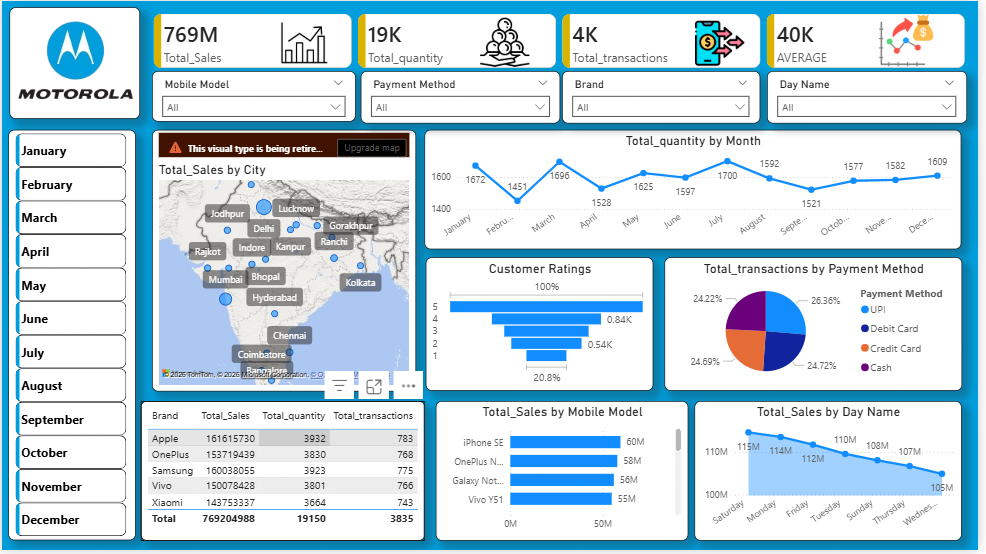

Layout of this report page (visuals, bound fields, positions):
{"tool":"powerbi","page":{"name":"Page 1","canvas":[1280,720],"ordinal":0},"visuals":[{"type":"shape","box":[10.4,7.8,171.4,146.8],"z":0},{"type":"image","box":[16.9,7.8,157.1,140.3],"z":1000},{"type":"shape","box":[7.5,168.8,167.5,538.8],"z":2000},{"type":"advancedSlicerVisual","fields":{"Values":["Sales Data.Date.Variation.Date Hierarchy.Month"]},"box":[13.8,168.8,155,538.8],"z":3000},{"type":"cardVisual","fields":{"Data":["Sales Data.Total_Sales","Sales Data.Total_quantity","Sales Data.Total_transactions","Sales Data.AVERAGE"]},"box":[181.8,0,1098.7,105.2],"z":4000},{"type":"image","box":[289.6,15.6,213,76.6],"z":5000},{"type":"image","box":[544.2,19.5,231.2,68.8],"z":6000},{"type":"image","box":[868.8,23.4,144.2,64.9],"z":7000},{"type":"image","box":[1092.2,16.9,188.3,71.4],"z":8000},{"type":"map","fields":{"Category":["Sales Data.City"],"Size":["Sales Data.Total_Sales"]},"box":[197.4,168.8,346.8,342.9],"z":9000},{"type":"lineChart","fields":{"Y":["Sales Data.Total_quantity"],"Category":["Sales Data.Date.Variation.Date Hierarchy.Month"]},"box":[554.5,168.8,703.9,157.1],"z":10000},{"type":"funnel","title":"Customer Ratings","fields":{"Category":["Sales Data.Customer Ratings"],"Y":["CountNonNull(Sales Data.Customer Ratings)"]},"box":[555,336.2,298.8,175],"z":11000},{"type":"pieChart","fields":{"Category":["Sales Data.Payment Method"],"Y":["Sales Data.Total_transactions"]},"box":[868.8,336.2,390,175],"z":12000},{"type":"clusteredBarChart","fields":{"Category":["Sales Data.Mobile Model"],"Y":["Sales Data.Total_Sales"]},"box":[568.8,524.7,331.2,183.1],"z":13000},{"type":"lineChart","fields":{"Y":["Sales Data.Total_Sales"],"Category":["Sales Data.Day Name"]},"box":[907.8,524.7,350.6,183.1],"z":14000},{"type":"tableEx","fields":{"Values":["Sales Data.Brand","Sales Data.Total_Sales","Sales Data.Total_quantity","Sales Data.Total_transactions"]},"box":[181.8,524.7,372.7,183.1],"z":15000},{"type":"slicer","fields":{"Values":["Sales Data.Mobile Model"]},"box":[197.1,92.1,267.1,66.4],"z":16000},{"type":"slicer","fields":{"Values":["Sales Data.Payment Method"]},"box":[470,92.1,261.4,68.6],"z":17000},{"type":"slicer","fields":{"Values":["Sales Data.Brand"]},"box":[735.1,92.2,259.7,68.8],"z":18000},{"type":"slicer","fields":{"Values":["Sales Data.Day Name"]},"box":[1003.6,92.1,262.1,68.6],"z":19000}]}

Visuals, with their boxes in screenshot pixels (x1, y1, x2, y2), scaled from the page's 1280x720 canvas onto the 986x554 screenshot:
shape: 8:6:140:119
image: 13:6:134:114
shape: 6:130:135:544
advancedSlicerVisual - Sales Data.Date.Variation.Date Hierarchy.Month: 11:130:130:544
cardVisual - Sales Data.Total_Sales x Sales Data.Total_quantity: 140:0:985:81
image: 223:12:387:71
image: 419:15:597:68
image: 669:18:780:68
image: 841:13:985:68
map - Sales Data.City x Sales Data.Total_Sales: 152:130:419:394
lineChart - Sales Data.Total_quantity x Sales Data.Date.Variation.Date Hierarchy.Month: 427:130:969:251
"Customer Ratings" funnel: 428:259:658:393
pieChart - Sales Data.Payment Method x Sales Data.Total_transactions: 669:259:970:393
clusteredBarChart - Sales Data.Mobile Model x Sales Data.Total_Sales: 438:404:693:545
lineChart - Sales Data.Total_Sales x Sales Data.Day Name: 699:404:969:545
tableEx - Sales Data.Brand x Sales Data.Total_Sales: 140:404:427:545
slicer - Sales Data.Mobile Model: 152:71:358:122
slicer - Sales Data.Payment Method: 362:71:563:124
slicer - Sales Data.Brand: 566:71:766:124
slicer - Sales Data.Day Name: 773:71:975:124
